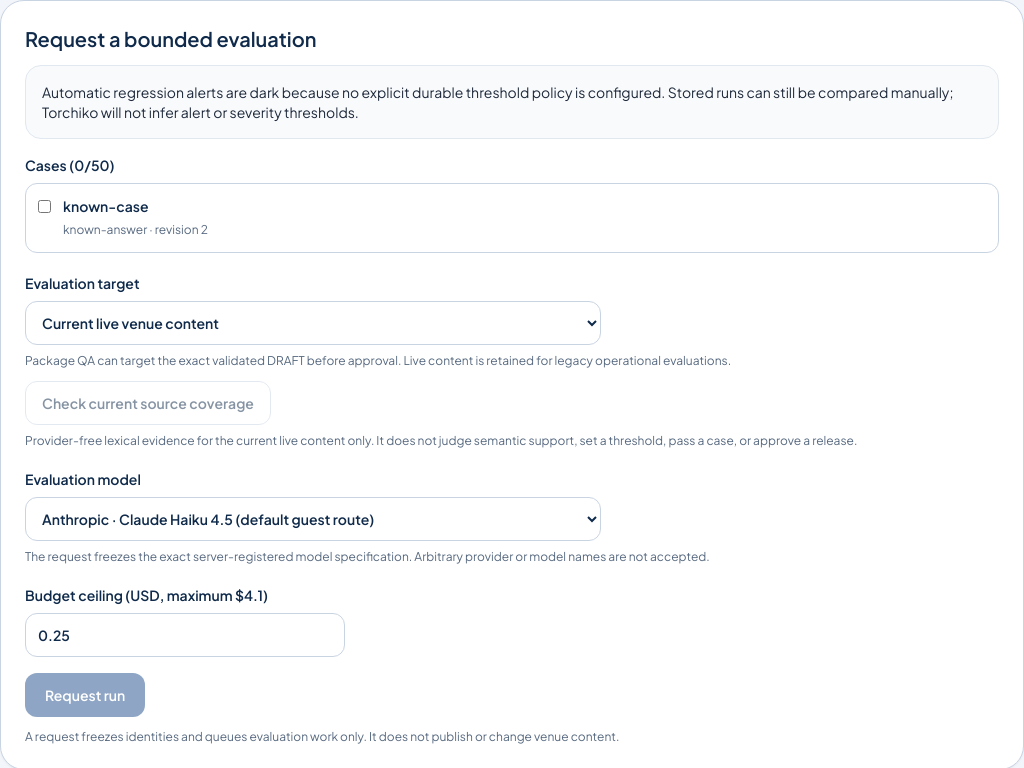
Scenario: EvaluationRunRequestPanel › reports durable staging without claiming direct queue publication
The width and height of the screenshot is (1024, 768).
What coordinates should you click on to do the following:
click the checkbox
I would click on:
 (44, 206)
Its box is [38,200,51,213].
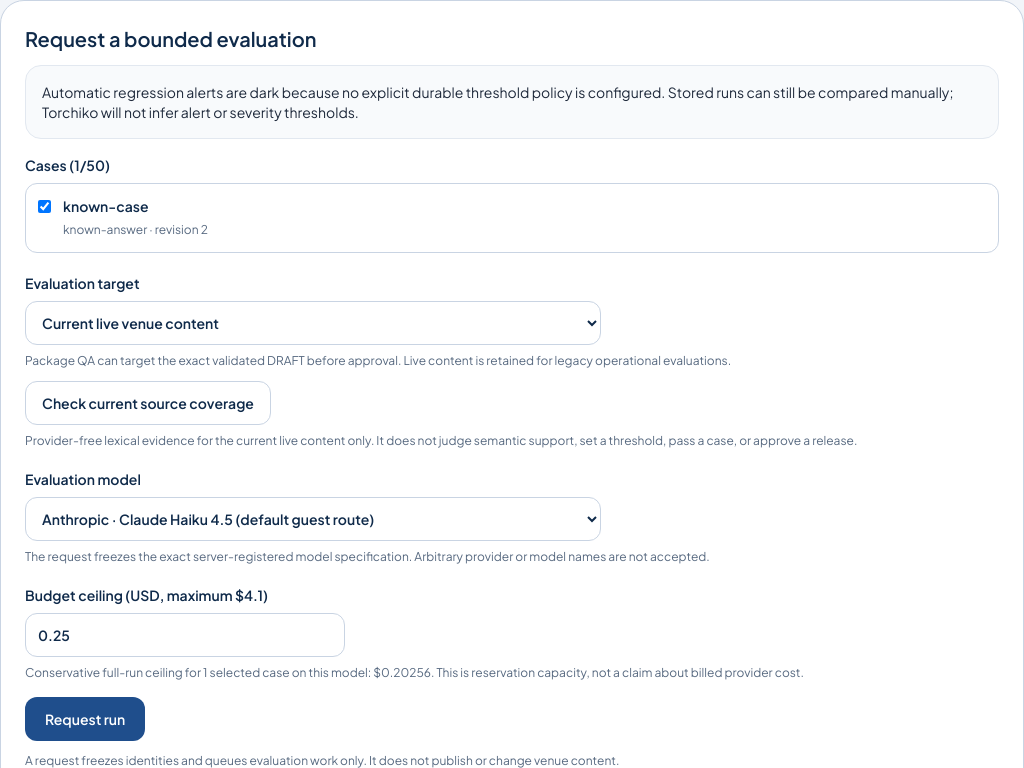
What coordinates should you click on to do the following:
click the button "Request run"
I would click on:
 (85, 719)
Its box is [25,697,145,741].
(page scrolled)
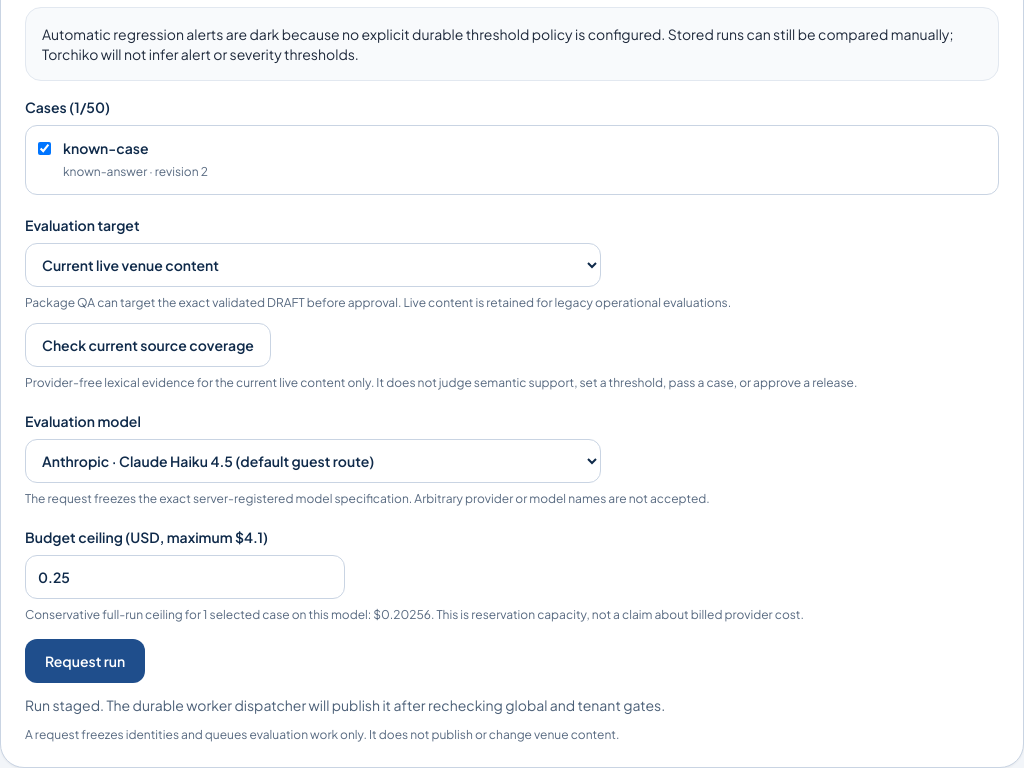
Expected: the text "durable worker dispatcher" is shown, [25,696,665,714]
